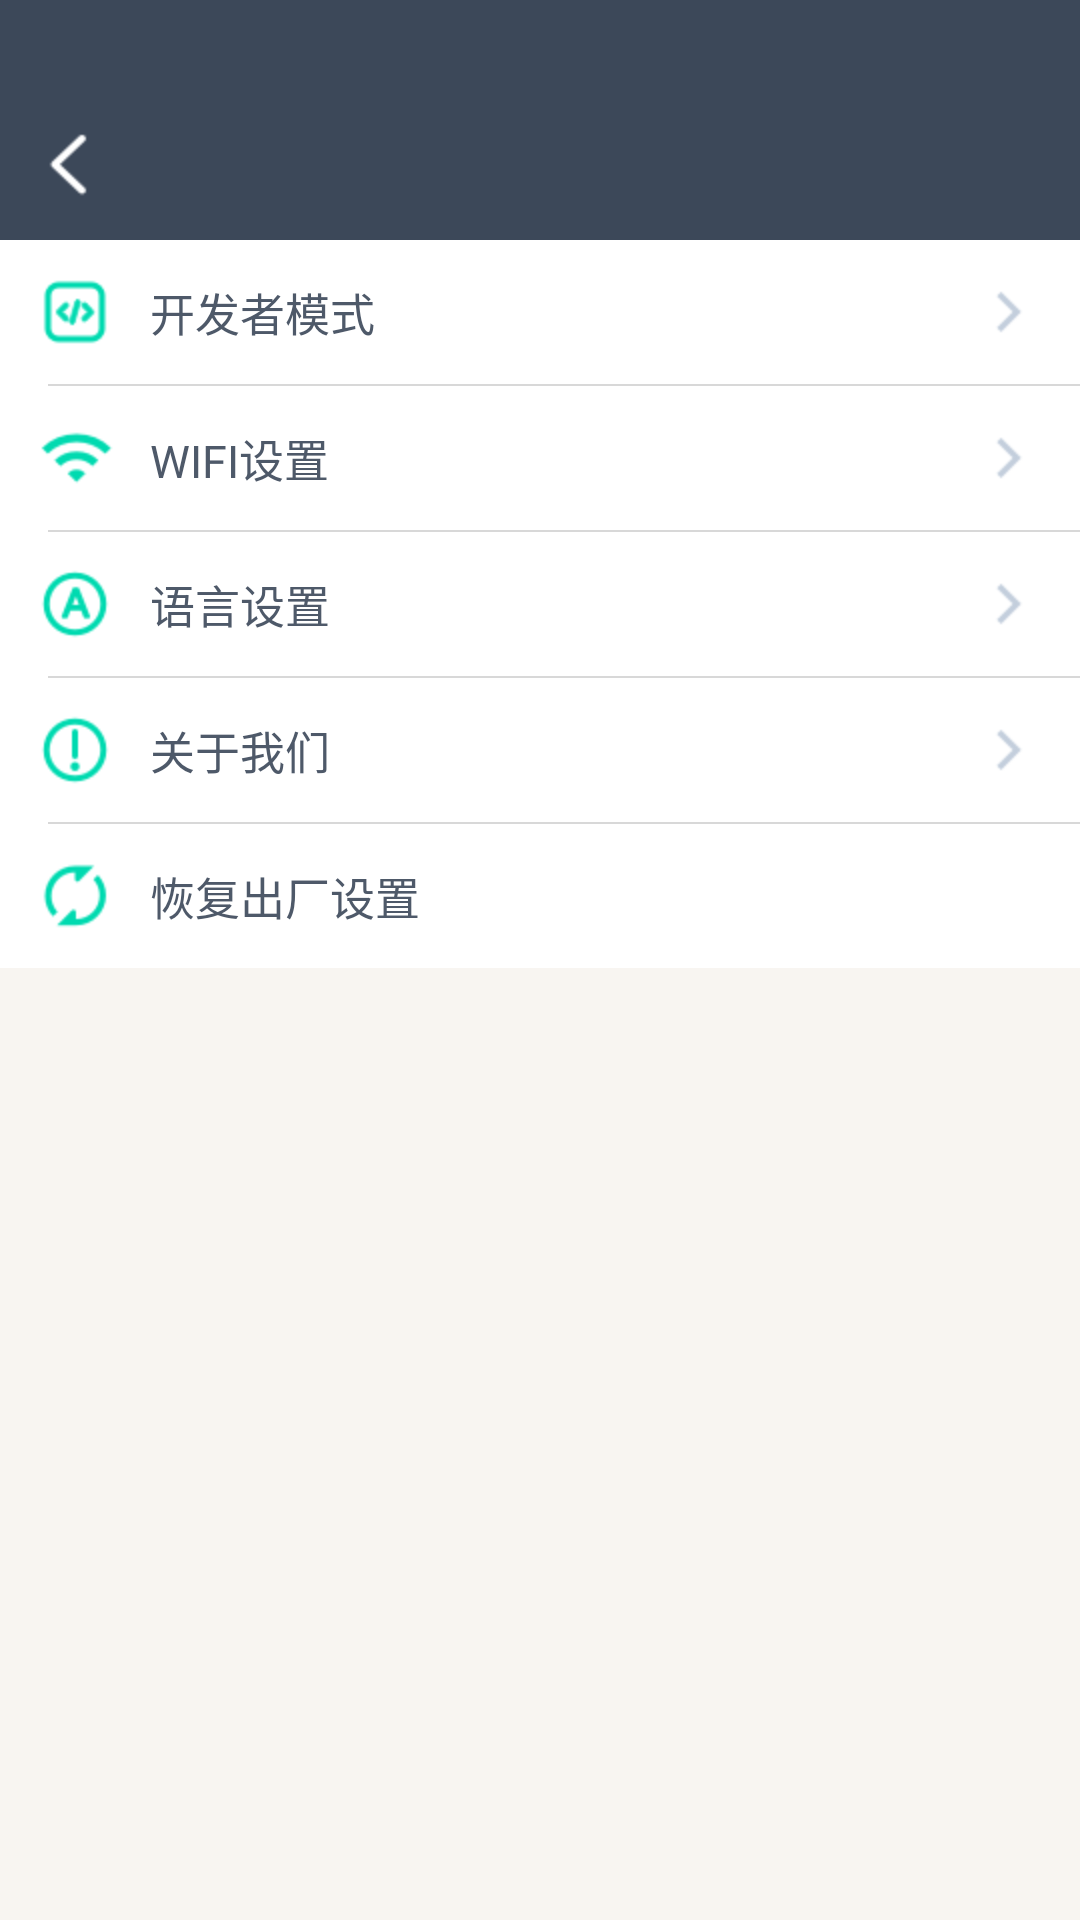

Named icons in this screenshot (1080px x 1920px) and their centers, [x,y]:
about us: [75,750]
back: [68,164]
developers: [75,312]
language: [75,604]
restore: [75,895]
